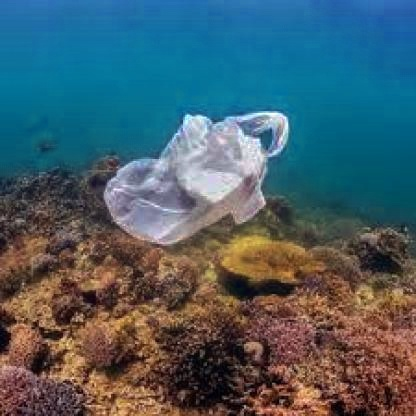pbag: (102, 109, 290, 248)
